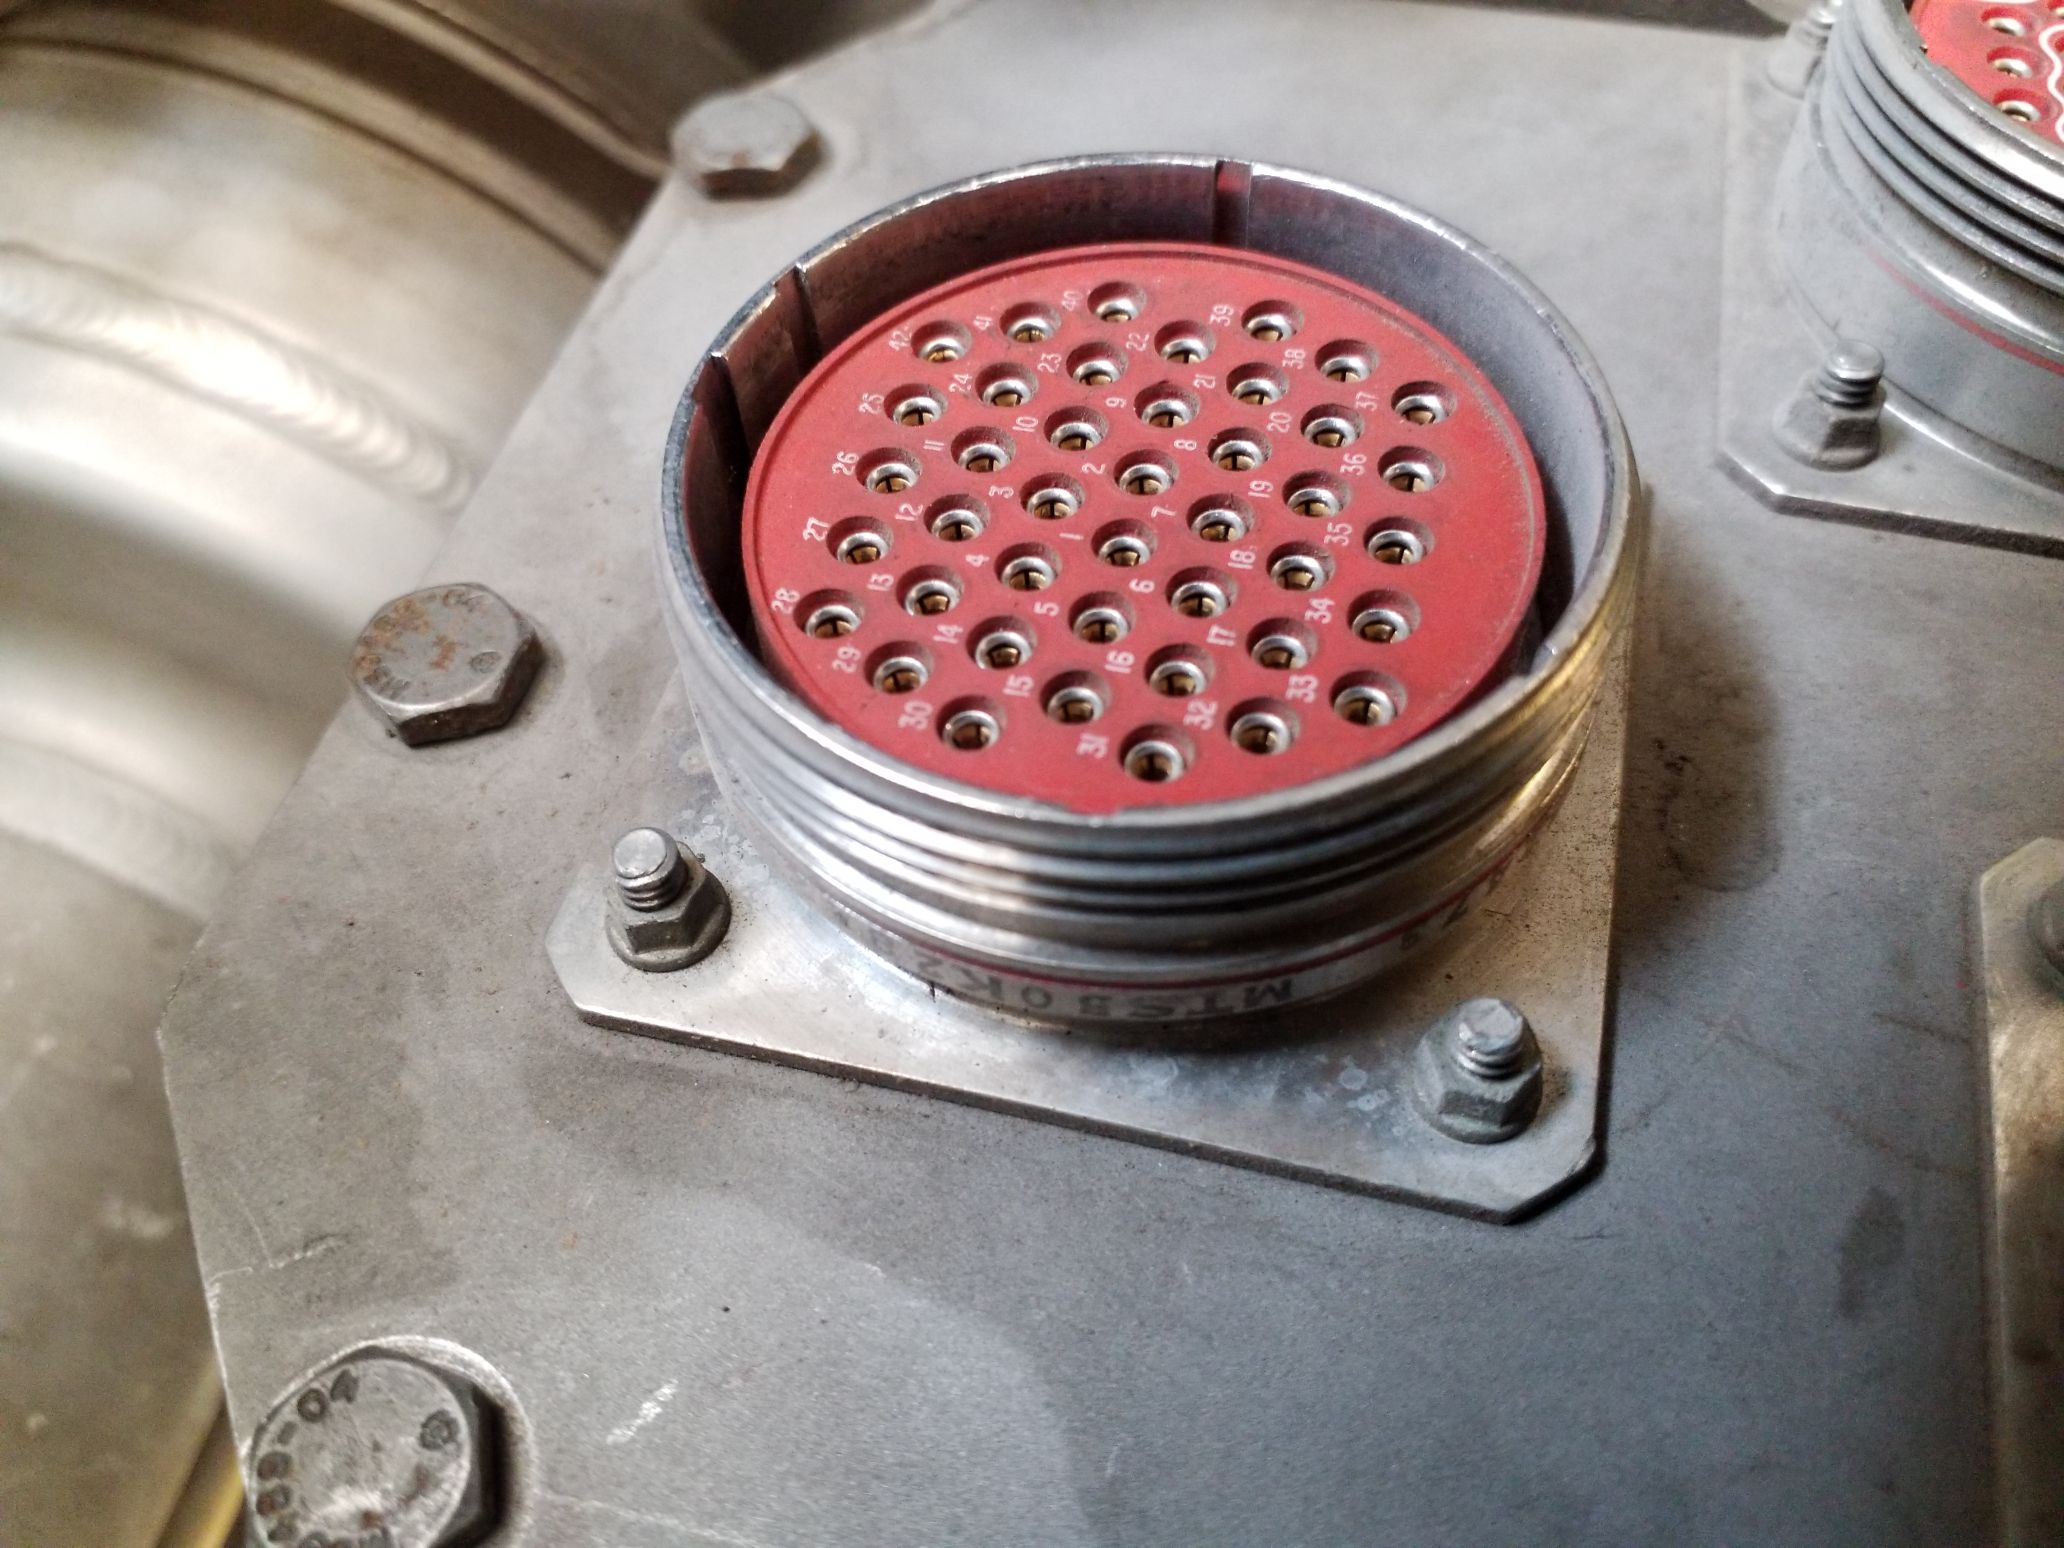inletnumbers: (640, 148, 1654, 863)
